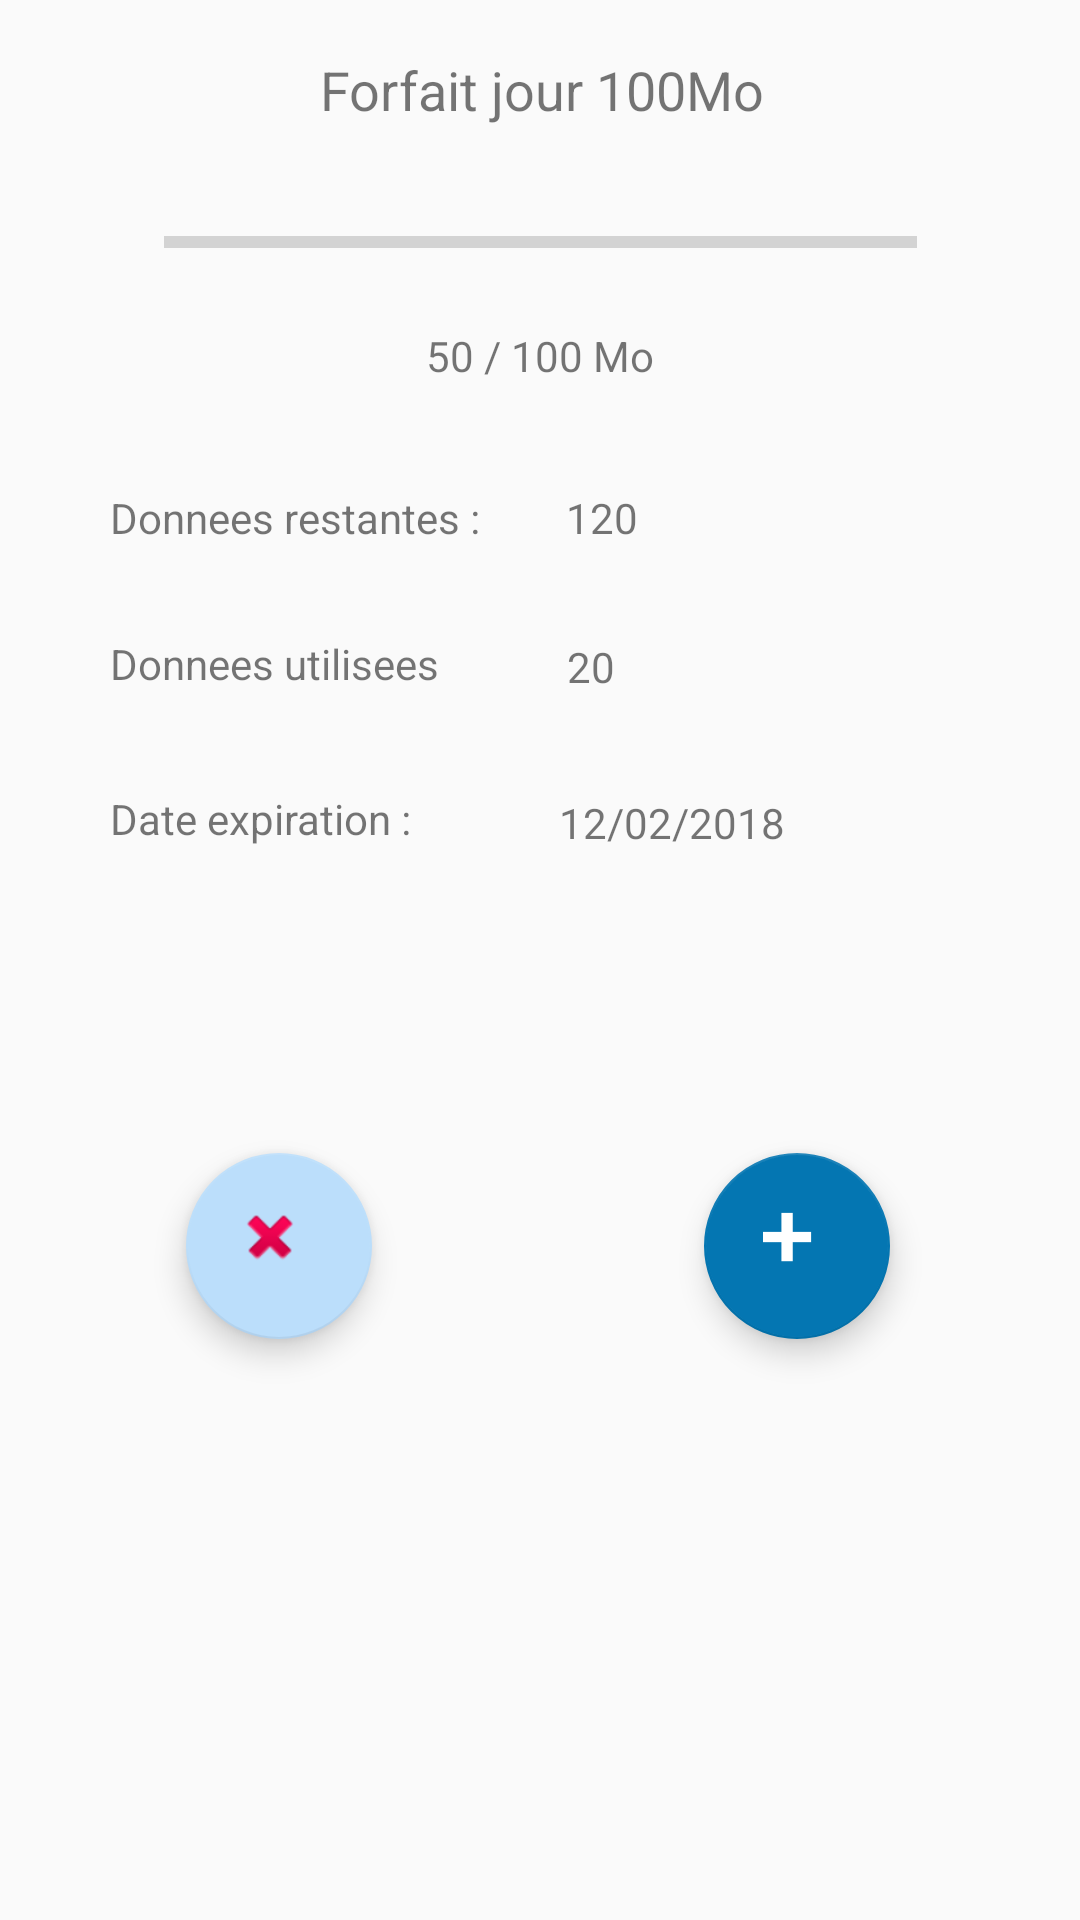

Icon bounding boxes for this 1080w x 1920h phone screenshot, format (x1, y1, x2, y2):
delete: (186, 1153, 372, 1339)
plus: (704, 1153, 890, 1339)
